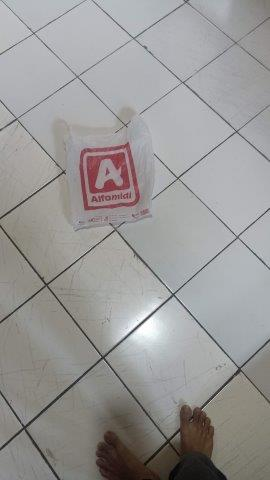plastik: (62, 114, 157, 234)
